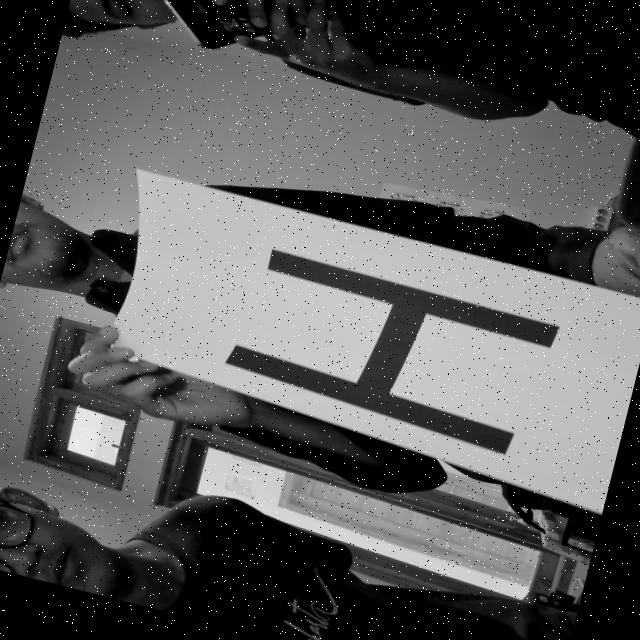h: (194, 214, 610, 481)
